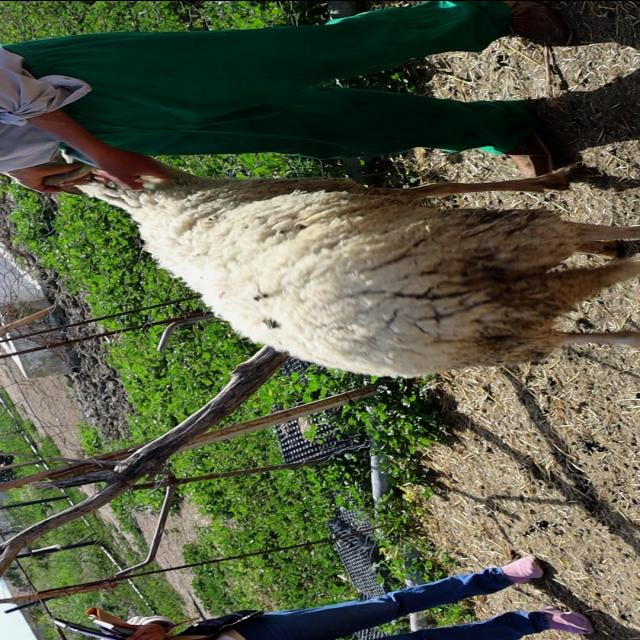Score_4: (80, 166, 639, 377)
